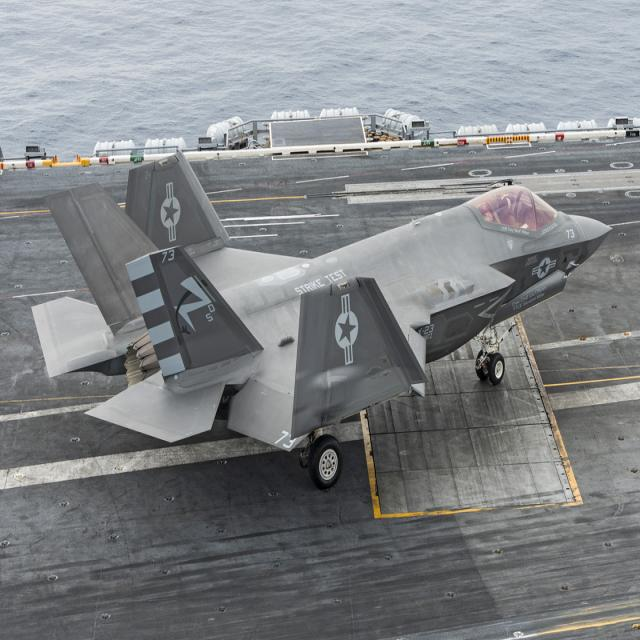MIL_Plane: (30, 150, 613, 490)
